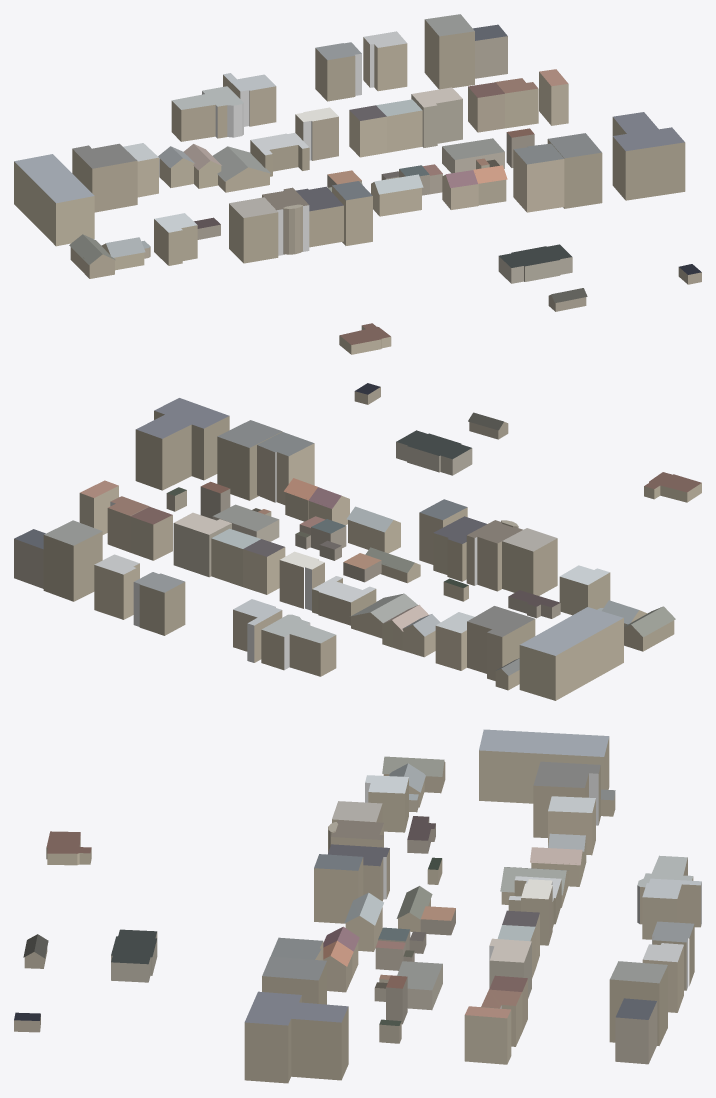
3 views of the same model, one above another, from view 1: azimuth 30°, elevation 25°; view 2: azimuth 150°, elevation 25°; view 3: azimuth 270°, elevation 25° (orthographic). The views are drawn at different scales.
Visible parts, largest first — view 1: tuile; view 2: tuile; view 3: tuile.
Part boxes in pixels (box(x1,y1,x2,y2)): tuile: box(14, 14, 701, 354); tuile: box(14, 383, 701, 700); tuile: box(14, 729, 701, 1083).
Size of the model in its own units: 196 by 21.89 by 184.
